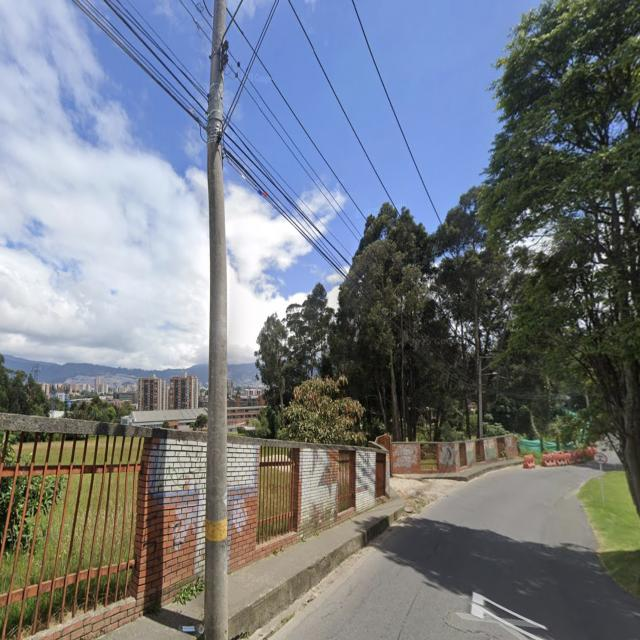Poste: (204, 0, 228, 640)
